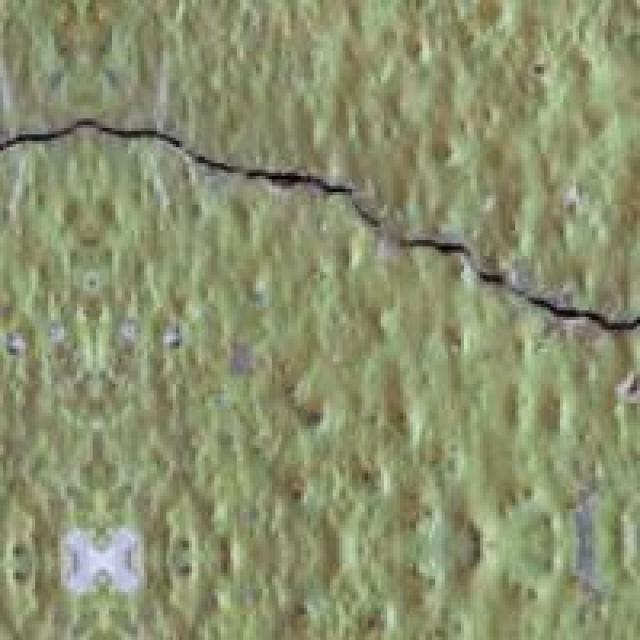crack: (0, 67, 637, 378)
